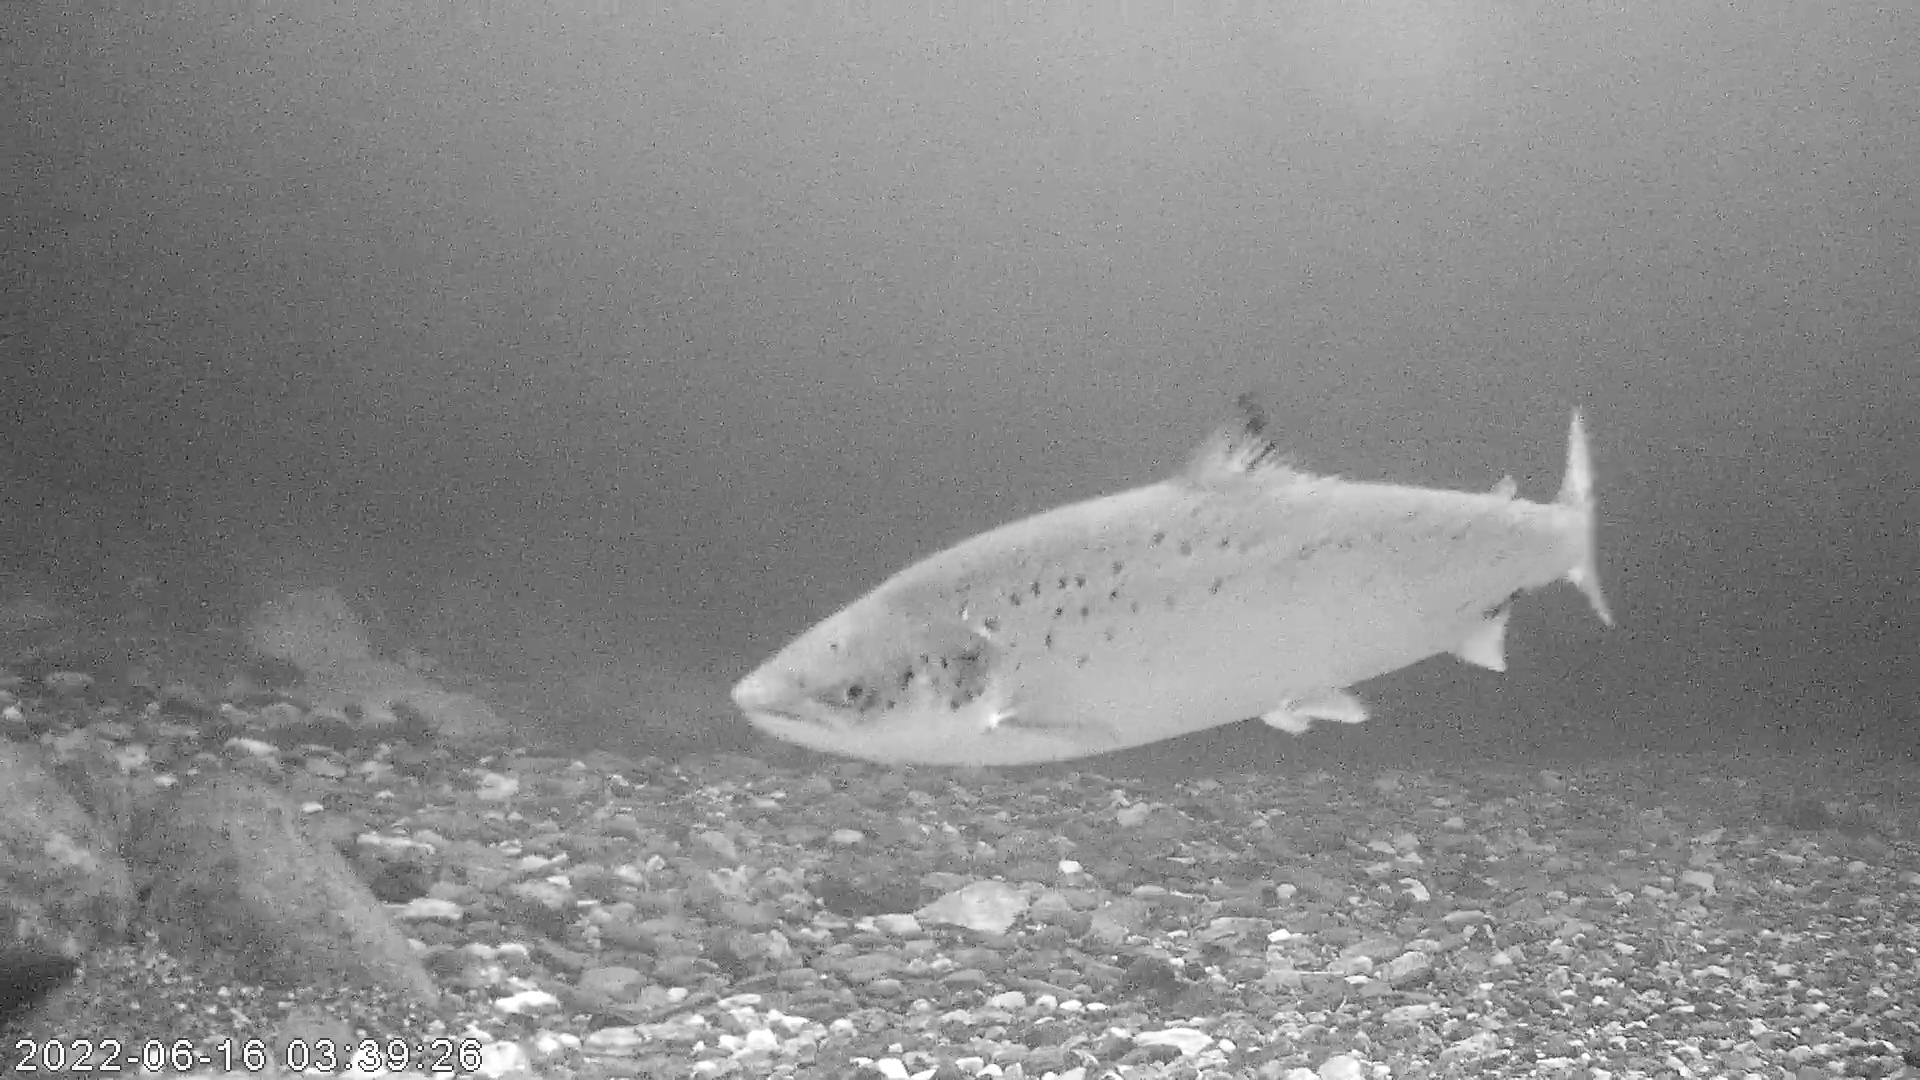salmon: (728, 390, 1618, 771)
